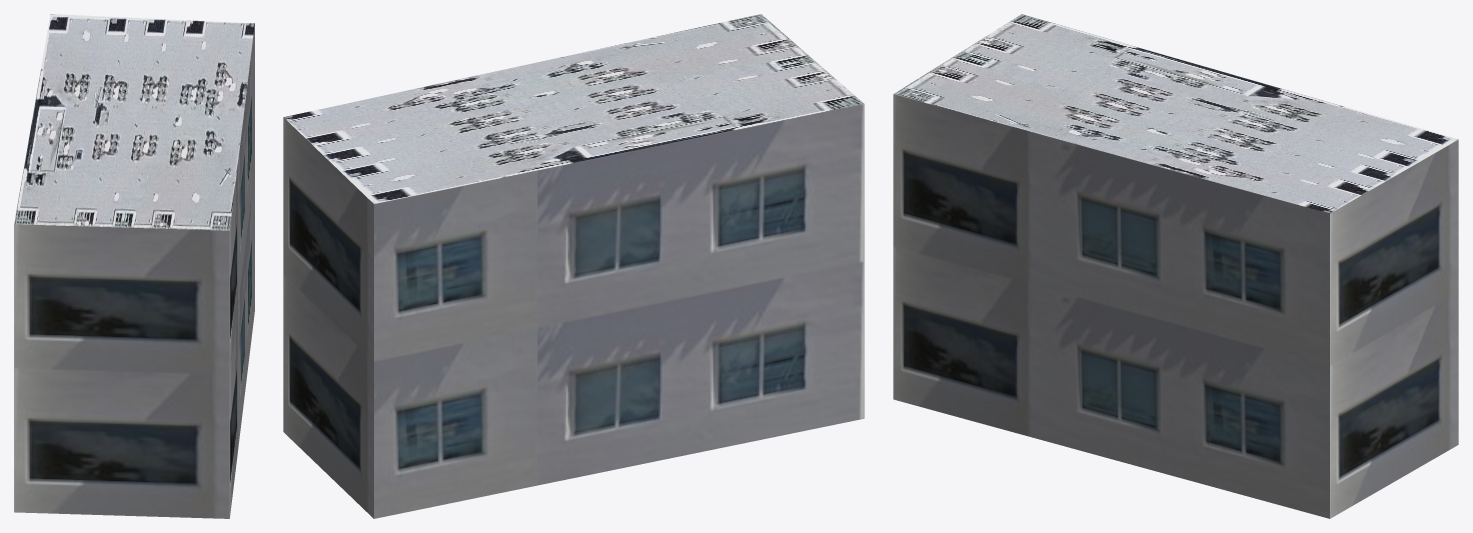
File: ResTex__229.fbx
The picture shows the model from 3 angles, left to right: view 1: azimuth 30°, elevation 25°; view 2: azimuth 150°, elevation 25°; view 3: azimuth 270°, elevation 25°; orthographic projection. The views are drawn at different scales.
Parts seen in each view (by area): view 1: CityEngineMaterial_10_m, CityEngineMaterial_m; view 2: CityEngineMaterial_10_m, CityEngineMaterial_m; view 3: CityEngineMaterial_10_m, CityEngineMaterial_m.
Boxes of the visible parts, left/top/right/bottom form: CityEngineMaterial_10_m: left=14, top=24, right=254, bottom=518; CityEngineMaterial_m: left=14, top=14, right=254, bottom=230; CityEngineMaterial_10_m: left=283, top=104, right=864, bottom=518; CityEngineMaterial_m: left=283, top=14, right=863, bottom=203; CityEngineMaterial_10_m: left=893, top=94, right=1458, bottom=518; CityEngineMaterial_m: left=893, top=14, right=1458, bottom=213.
Bounding box in the file's own units: 8.41 × 6 × 10.07.
Materials: 2 (2 with a texture image).
